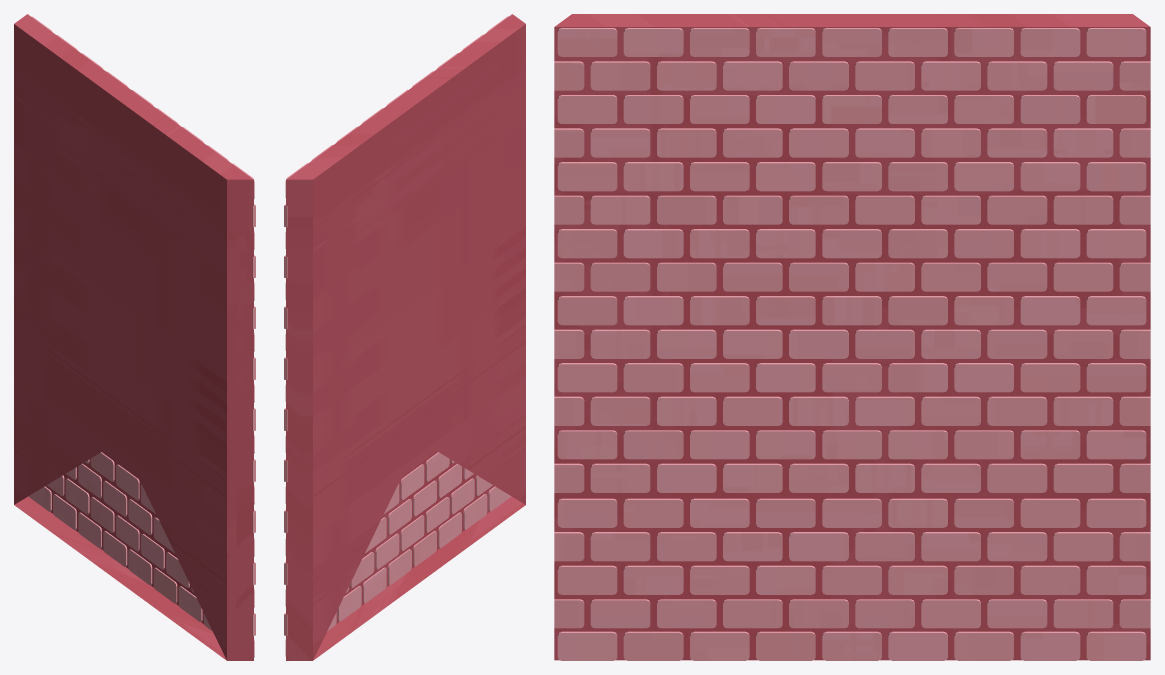
The model's file is bricks second floor.fbx.
3 views of the same model, side by side, from view 1: azimuth 30°, elevation 25°; view 2: azimuth 150°, elevation 25°; view 3: azimuth 270°, elevation 25° (orthographic). The views are drawn at different scales.
Visible parts, largest first — view 1: Polygon, Polygon_1; view 2: Polygon, Polygon_1; view 3: Polygon_1, Polygon.
Part boxes in pixels (left/top/right/bottom): Polygon: left=14, top=14, right=253, bottom=660; Polygon_1: left=29, top=16, right=255, bottom=657; Polygon: left=286, top=14, right=525, bottom=660; Polygon_1: left=284, top=16, right=511, bottom=656; Polygon_1: left=554, top=28, right=1150, bottom=660; Polygon: left=554, top=14, right=1150, bottom=660.
Size of the model in its own units: 0.1815 by 3.77 by 3.22.
Materials: 2 (2 with a texture image).
